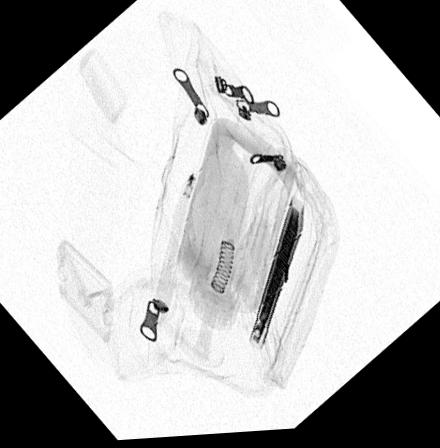Powerbank: (244, 200, 305, 355)
